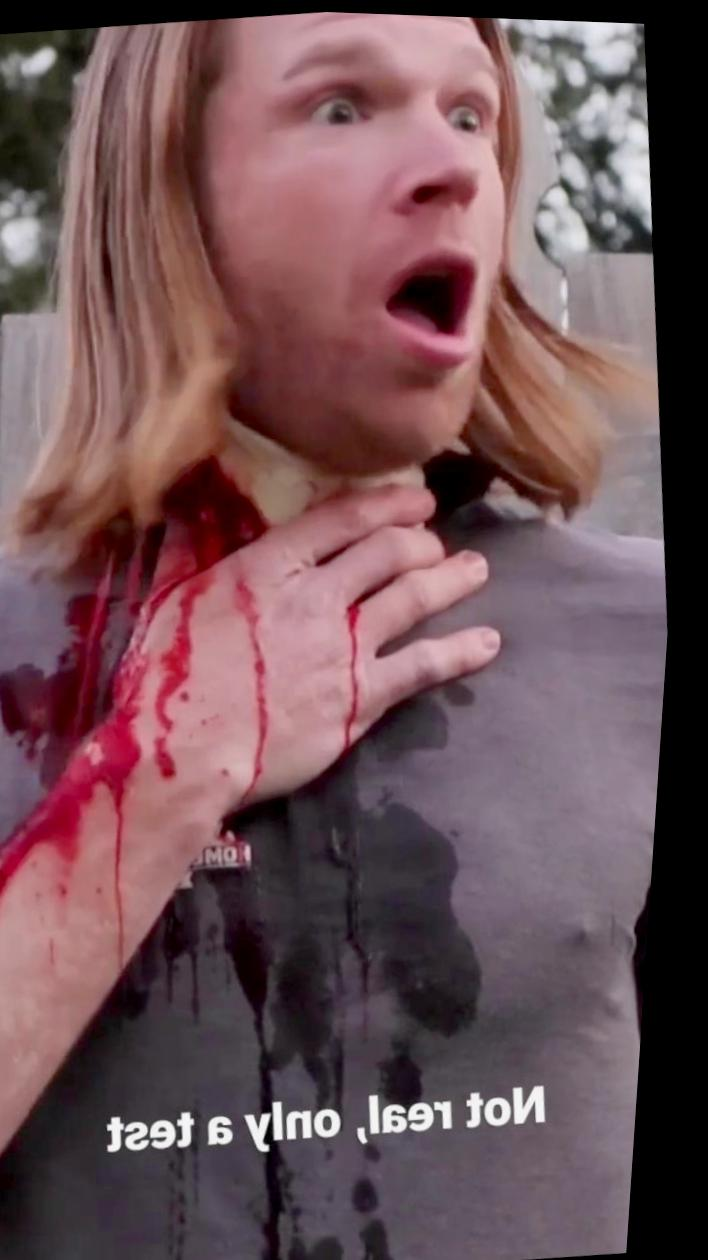Fire: (0, 457, 273, 1104), (242, 566, 287, 805), (350, 599, 370, 752), (285, 739, 301, 782)
